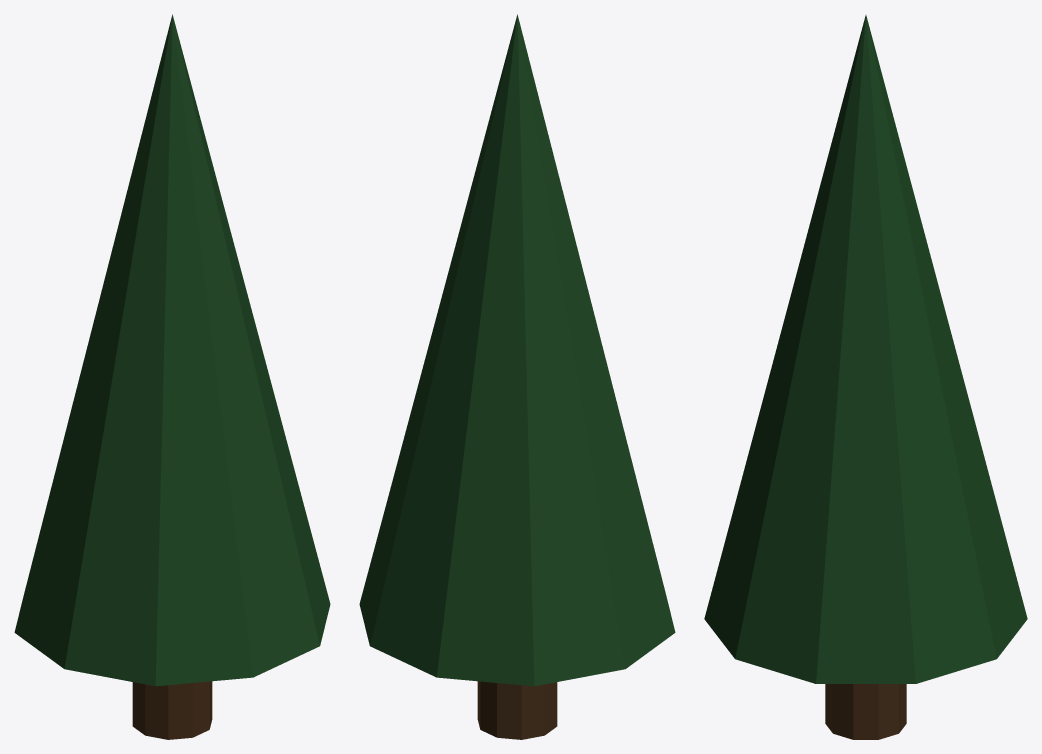
Rendered from Tree1.fbx.
3 views of the same model, side by side, from view 1: azimuth 30°, elevation 25°; view 2: azimuth 150°, elevation 25°; view 3: azimuth 270°, elevation 25° (orthographic).
Parts seen in each view (by area): view 1: Cylinder; view 2: Cylinder; view 3: Cylinder.
Part boxes in pixels (<box>): Cylinder: <box>14,14,330,739</box>; Cylinder: <box>359,14,675,739</box>; Cylinder: <box>704,15,1027,739</box>.
Size of the model in its own units: 151 by 384 by 159.
